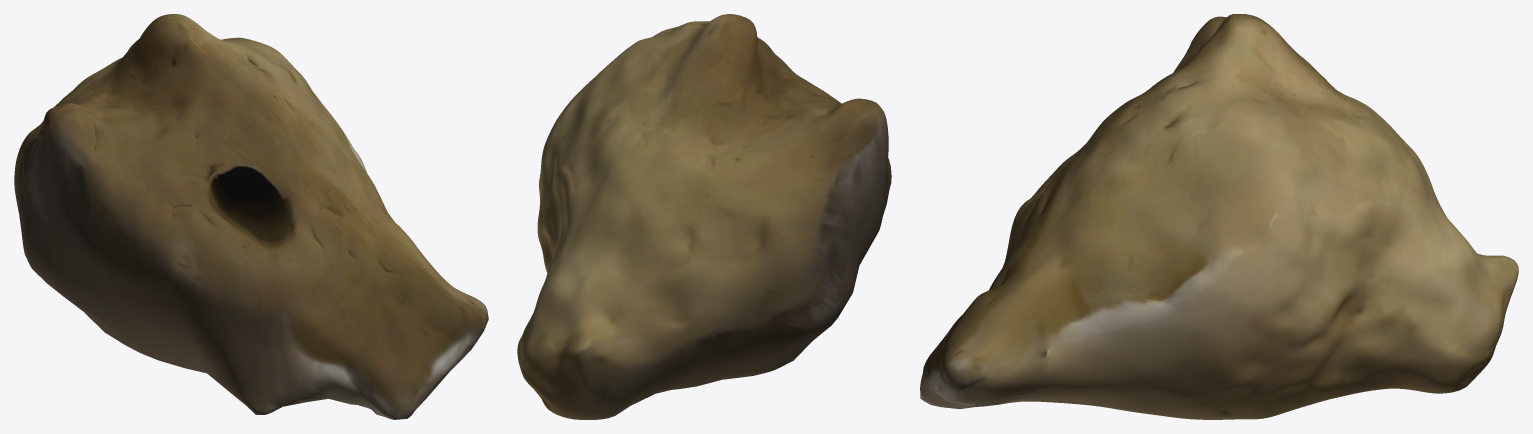
The picture shows the model from 3 angles, left to right: view 1: azimuth 30°, elevation 25°; view 2: azimuth 150°, elevation 25°; view 3: azimuth 270°, elevation 25°; orthographic projection. The views are drawn at different scales.
Bounding box in the file's own units: 0.3571 × 0.3646 × 0.5435.
Materials: 1 (1 with a texture image).
